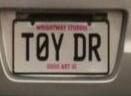0: (36, 32, 49, 61)
D: (72, 32, 87, 62)
R: (88, 32, 102, 62)
T: (21, 31, 34, 62)
Y: (50, 31, 64, 62)
